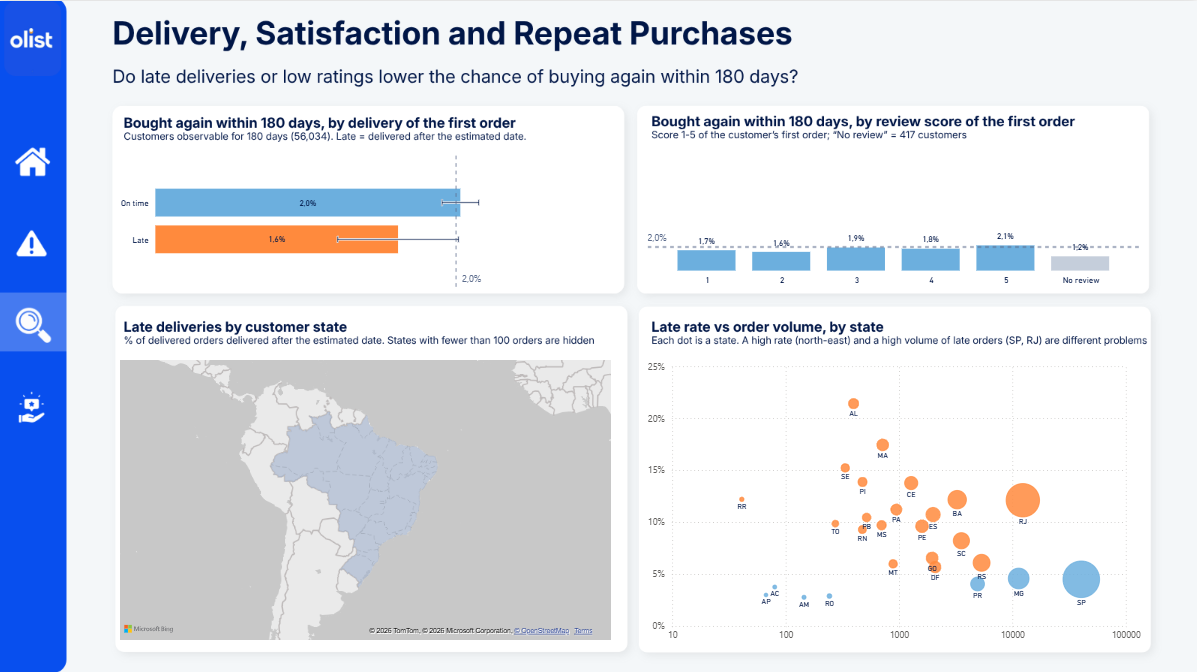

This screenshot's page, from the dashboard's own definition file:
{"tool":"powerbi","page":{"name":"Delivery & Satisfaction","canvas":[1600,900],"ordinal":2},"visuals":[{"type":"clusteredBarChart","fields":{"Category":["dim_customers.First Order Delivery"],"Y":["_measures.180d Return Rate"]},"box":[156.3,193,664.8,194.4],"z":0},{"type":"clusteredColumnChart","fields":{"Category":["dim_customers.First Review Score"],"Y":["_measures.180d Return Rate"]},"box":[860.6,187.3,667.6,200],"z":1000},{"type":"filledMap","fields":{"Category":["fact_orders.Country","fact_orders.State Name"],"Y":["_measures.Late Orders % (min 100 orders)"]},"box":[156.3,473.2,664.8,383.1],"z":2000},{"type":"scatterChart","fields":{"Category":["fact_orders.customer_state"],"Size":["_measures.Late Orders"],"X":["_measures.Delivered Orders"],"Y":["_measures.Late Orders %"]},"box":[860.6,473.2,667.6,390.1],"z":3000},{"type":"actionButton","box":[0,176.1,88.7,76.1],"z":3001},{"type":"actionButton","box":[0,287.3,88.7,76.1],"z":3002},{"type":"actionButton","box":[0,504.2,88.7,76.1],"z":3003}]}

Visuals, with their boxes on the page's 1600x900 design canvas (x1, y1, x2, y2). These are canvas units, not pixel positions in the 1197x672 screenshot, which may show the page scaled, cropped or inside an application window:
clusteredBarChart - dim_customers.First Order Delivery x _measures.180d Return Rate: x1=156, y1=193, x2=821, y2=387
clusteredColumnChart - dim_customers.First Review Score x _measures.180d Return Rate: x1=861, y1=187, x2=1528, y2=387
filledMap - fact_orders.Country x fact_orders.State Name: x1=156, y1=473, x2=821, y2=856
scatterChart - fact_orders.customer_state x _measures.Late Orders: x1=861, y1=473, x2=1528, y2=863
actionButton: x1=0, y1=176, x2=89, y2=252
actionButton: x1=0, y1=287, x2=89, y2=363
actionButton: x1=0, y1=504, x2=89, y2=580
